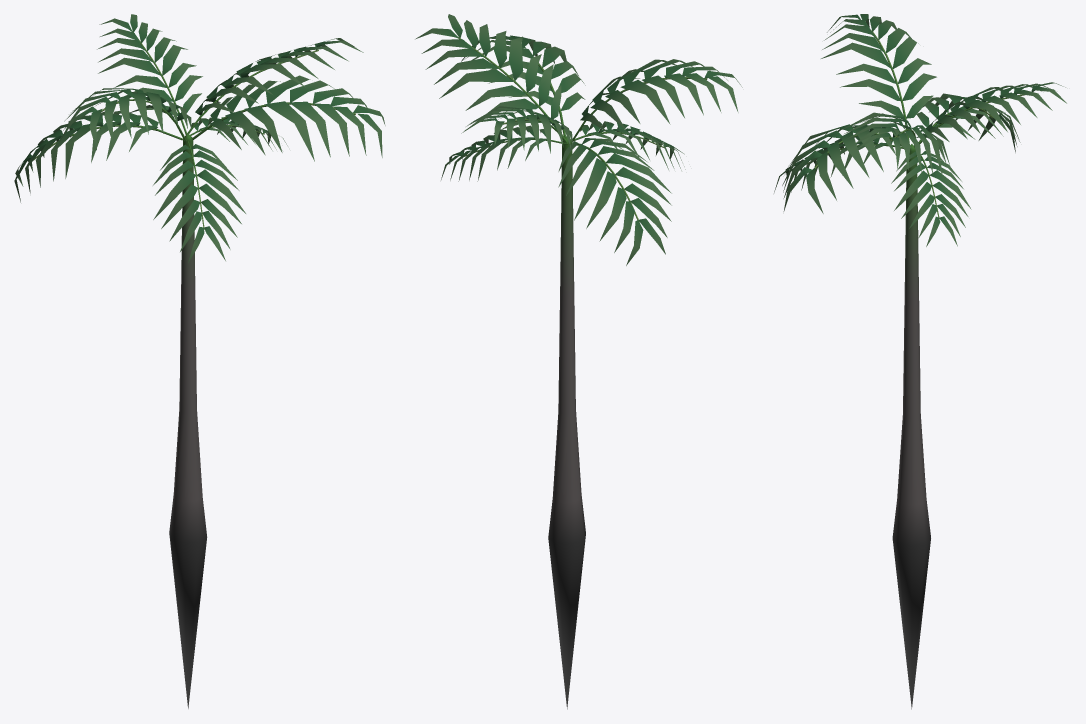
The model's file is trees-palms-ferns-palm-tree_v1.fbx.
The picture shows the model from 3 angles, left to right: view 1: azimuth 30°, elevation 25°; view 2: azimuth 150°, elevation 25°; view 3: azimuth 270°, elevation 25°; orthographic projection.
Parts seen in each view (by area): view 1: Palm Tree_v1; view 2: Palm Tree_v1; view 3: Palm Tree_v1.
Part boxes in pixels (<box>): Palm Tree_v1: <box>14,14,385,708</box>; Palm Tree_v1: <box>415,14,742,709</box>; Palm Tree_v1: <box>774,14,1066,709</box>.
Bounding box in the file's own units: 6.01 × 12 × 5.08.
